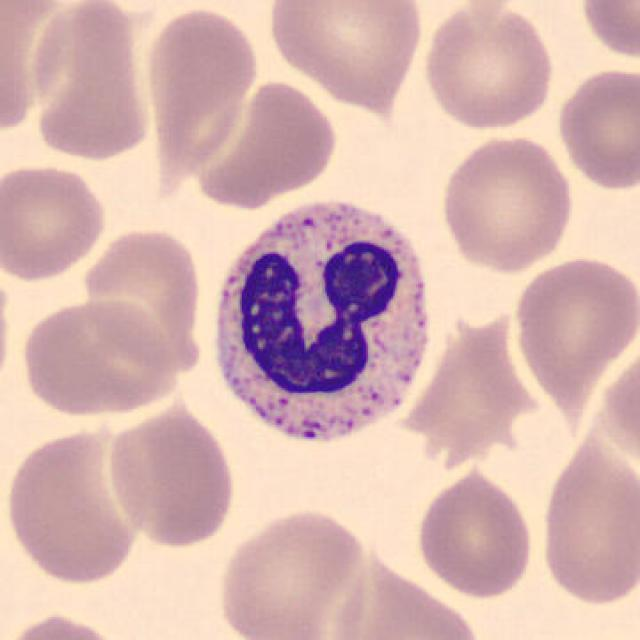Neutrophil: (199, 188, 439, 466)
RBC: (2, 419, 146, 589), (20, 0, 158, 164), (213, 502, 370, 640), (101, 397, 240, 552), (16, 294, 185, 420), (187, 76, 341, 208), (436, 132, 578, 275), (534, 425, 638, 610), (80, 224, 208, 372), (420, 2, 558, 132), (263, 0, 426, 109), (411, 462, 538, 601), (508, 252, 636, 386), (325, 545, 489, 640), (140, 3, 262, 124), (0, 159, 110, 284), (551, 63, 638, 194), (0, 0, 75, 141), (2, 608, 132, 640), (576, 0, 638, 63)
